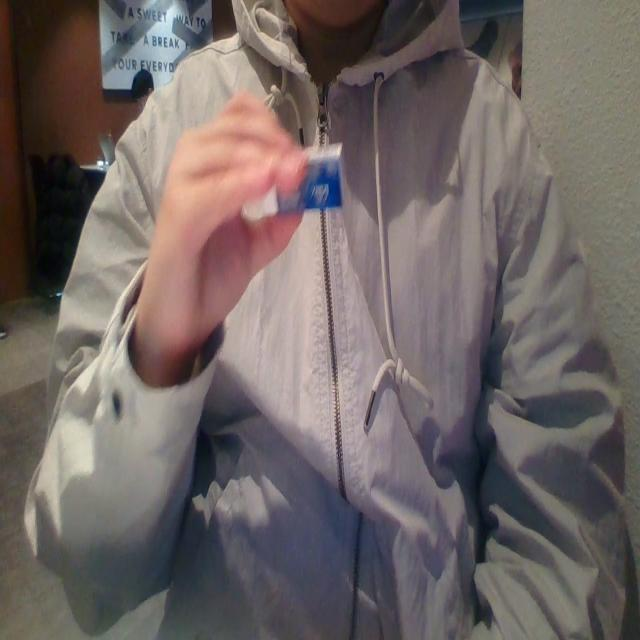eraser: (272, 145, 356, 208)
grab_eraser: (140, 96, 368, 407)
hand: (139, 98, 291, 350)
